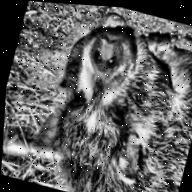boar: (20, 5, 192, 192)
